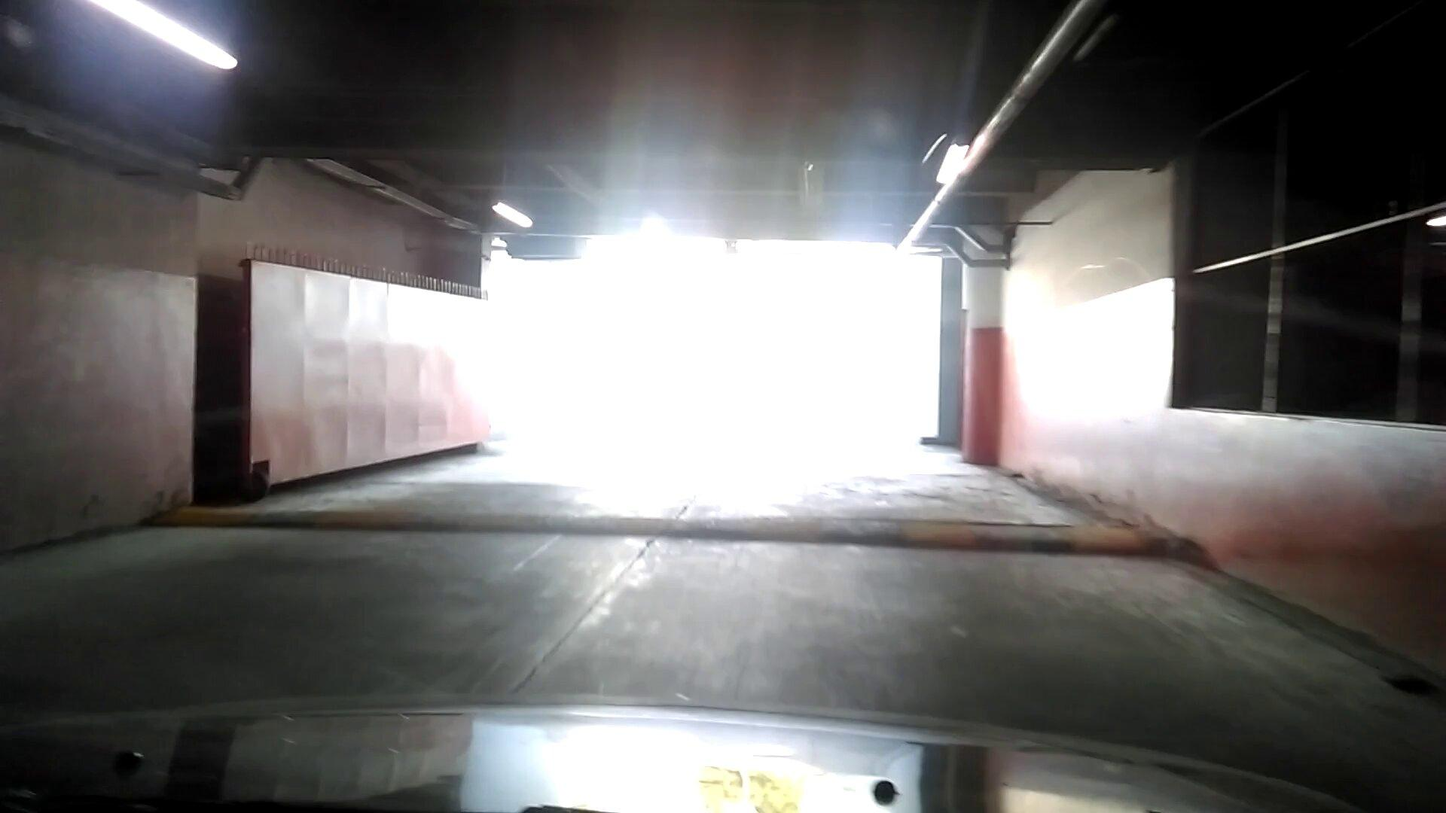Bump: (181, 495, 1152, 561)
